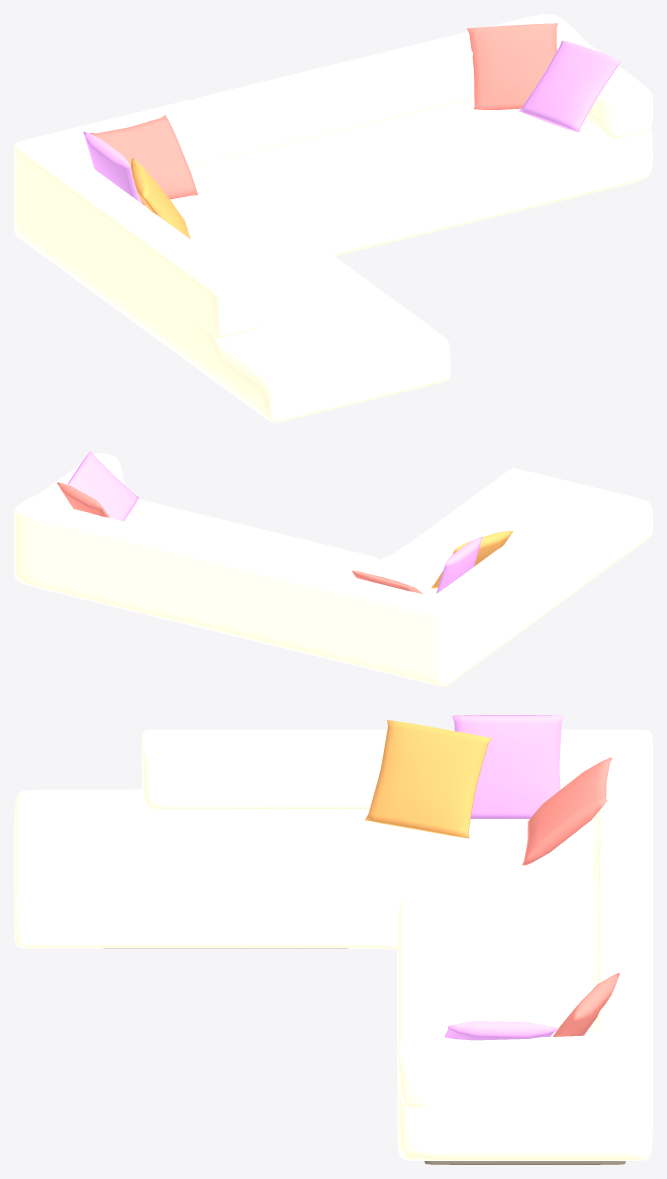
The model's file is sofa.glb.
3 renders of one model, top to bottom at view 1: azimuth 30°, elevation 25°; view 2: azimuth 150°, elevation 25°; view 3: azimuth 270°, elevation 25°, orthographic. The views are drawn at different scales.
Visible parts, largest first — view 1: sofa; view 2: sofa; view 3: sofa.
Boxes of the visible parts, box(x1,y1,x2,y2) form: sofa: box(14, 14, 652, 422); sofa: box(14, 451, 652, 686); sofa: box(14, 715, 652, 1164).
Size of the model in its own units: 600 by 138 by 500.
